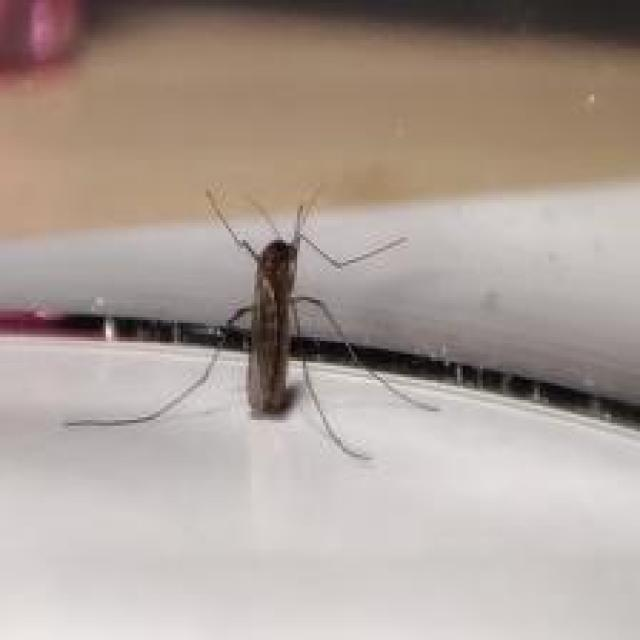Culex: (0, 182, 443, 462)
